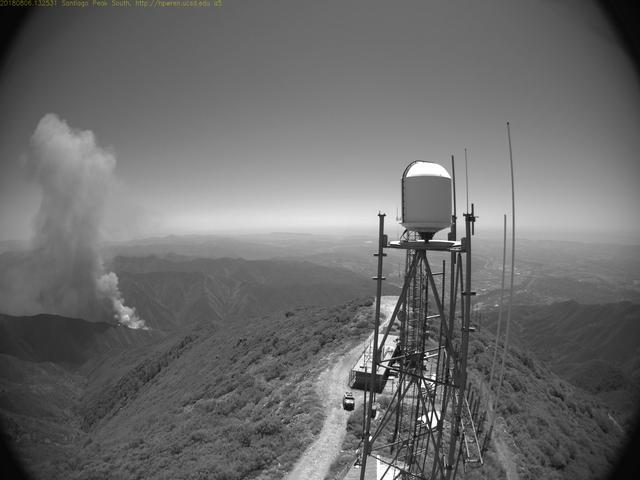smoke: (3, 114, 151, 334)
